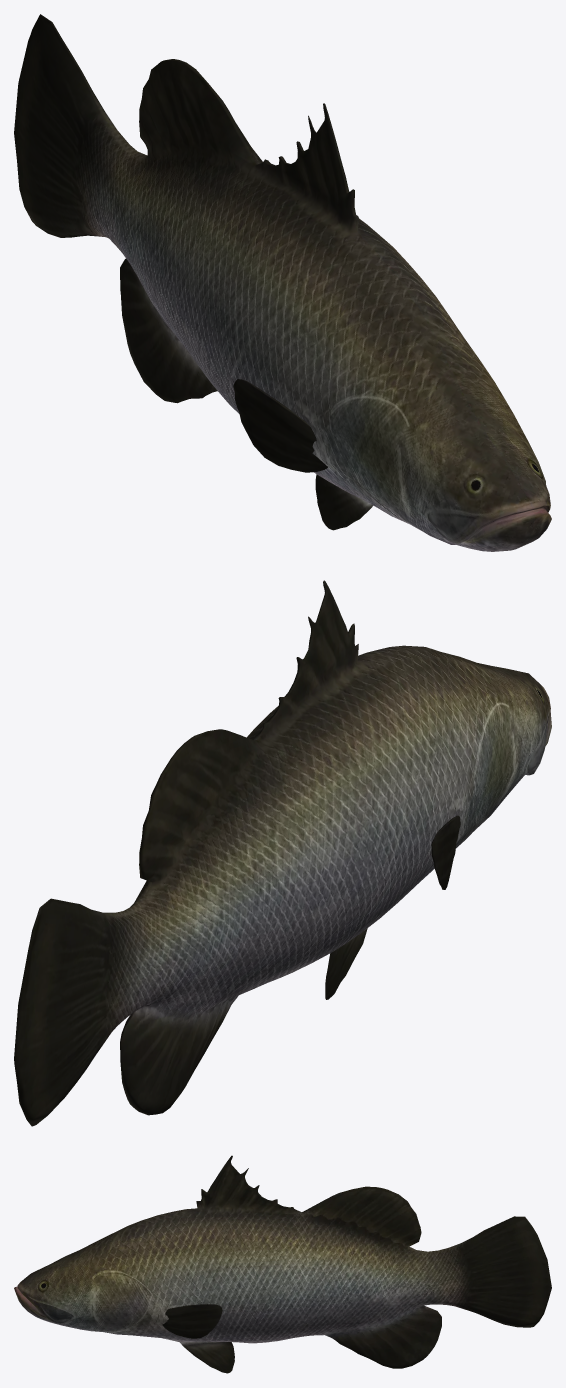
The model's file is barramundi.glb.
The picture shows the model from 3 angles, top to bottom: view 1: azimuth 30°, elevation 25°; view 2: azimuth 150°, elevation 25°; view 3: azimuth 270°, elevation 25°; orthographic projection. The views are drawn at different scales.
Parts seen in each view (by area): view 1: BarramundiFish; view 2: BarramundiFish; view 3: BarramundiFish.
Part boxes in pixels (x1,y1,x2,y2): BarramundiFish: (14,14,551,551); BarramundiFish: (14,580,551,1126); BarramundiFish: (14,1155,551,1373).
Size of the model in its own units: 0.1429 by 0.2875 by 0.6431.
1 material, 1 textured.
